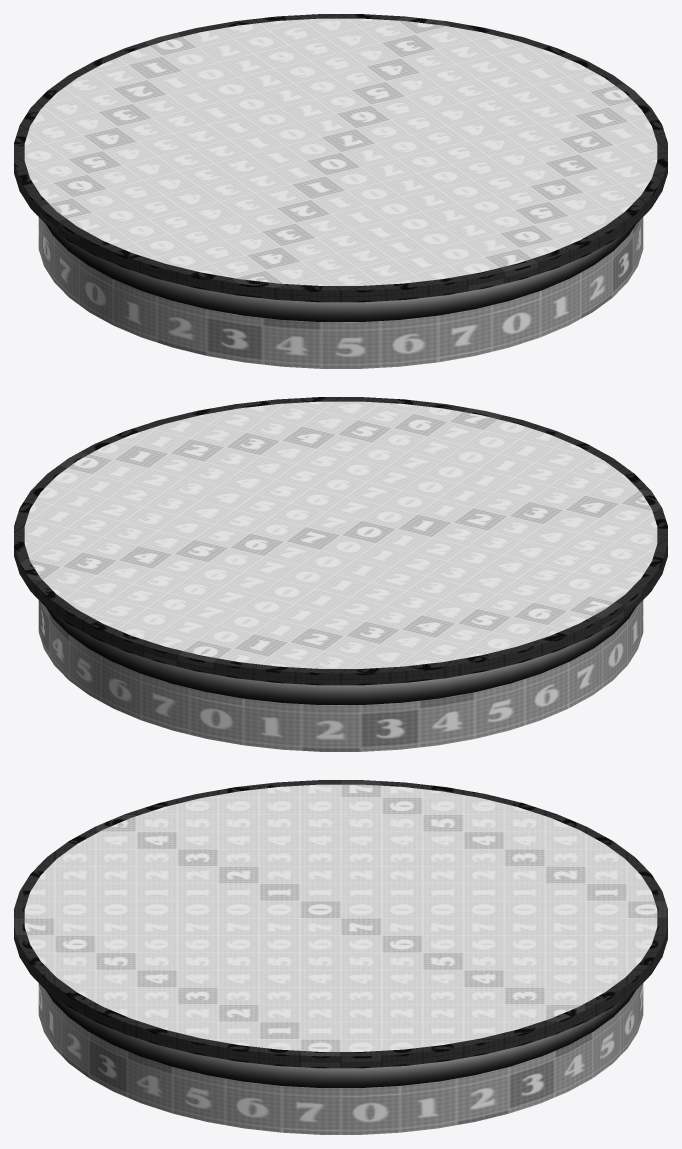
Rendered from Podium02_1.FBX.
3 renders of one model, top to bottom at view 1: azimuth 30°, elevation 25°; view 2: azimuth 150°, elevation 25°; view 3: azimuth 270°, elevation 25°, orthographic.
Visible parts, largest first — view 1: Podium, Backlight; view 2: Podium, Backlight; view 3: Podium, Backlight.
Part boxes in pixels (x1,y1,x2,y2): Podium: (14, 14, 667, 368); Backlight: (46, 224, 635, 321); Podium: (14, 397, 667, 751); Backlight: (46, 607, 635, 704); Podium: (14, 780, 667, 1134); Backlight: (46, 990, 635, 1087).
Size of the model in its own units: 500 by 75 by 500.
